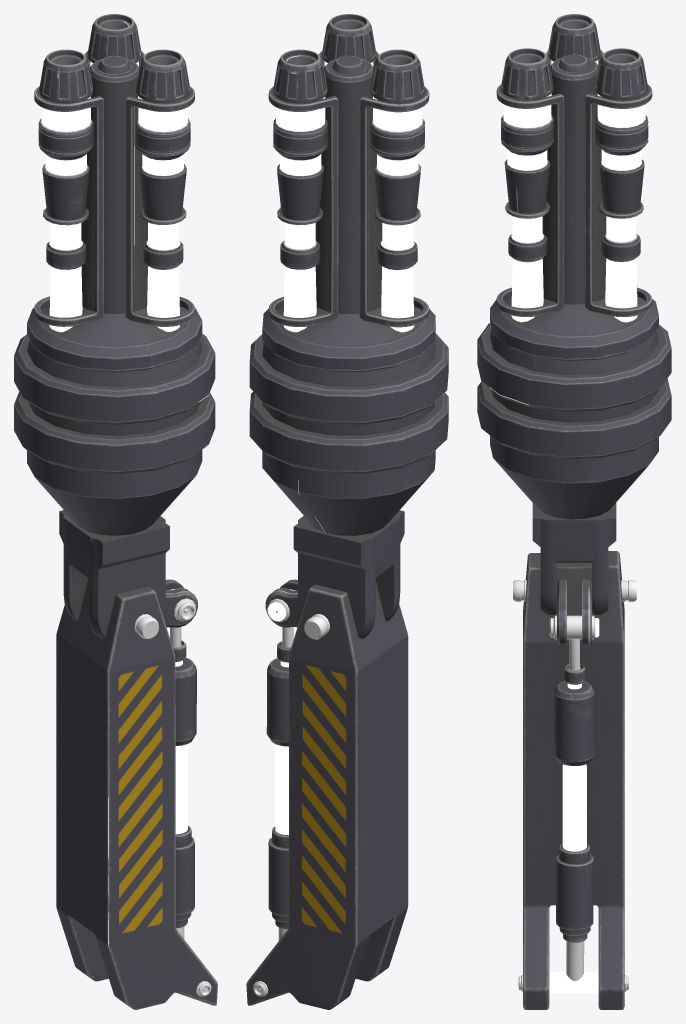
Rendered from SM_add_6-2_6_026.fbx.
3 renders of one model, left to right at view 1: azimuth 30°, elevation 25°; view 2: azimuth 150°, elevation 25°; view 3: azimuth 270°, elevation 25°, orthographic. The views are drawn at different scales.
Visible parts, largest first — view 1: SM_add_6-2_6_026_LOD0; view 2: SM_add_6-2_6_026_LOD0; view 3: SM_add_6-2_6_026_LOD0.
Boxes of the visible parts, x1,y1,x2,y2 form: SM_add_6-2_6_026_LOD0: [14, 14, 217, 1009]; SM_add_6-2_6_026_LOD0: [246, 14, 448, 1009]; SM_add_6-2_6_026_LOD0: [477, 14, 671, 1009].
Bounding box in the file's own units: 19.39 × 19.39 × 102.
Materials: 1 (1 with a texture image).
